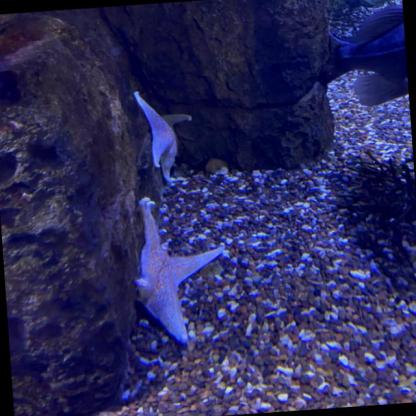fish: (323, 1, 408, 94)
starfish: (126, 196, 220, 344), (134, 86, 196, 187)
